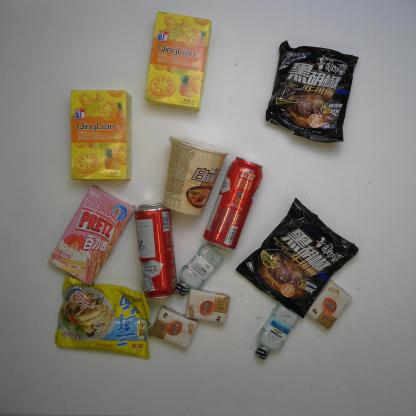Alcohol: (198, 153, 266, 255), (131, 201, 185, 301)
Dessert: (49, 182, 138, 289), (137, 7, 212, 114), (67, 84, 136, 181)
Instant Noodles: (236, 192, 360, 321), (266, 38, 358, 144), (53, 277, 156, 362), (157, 132, 228, 218)
Personal Hygiene: (252, 298, 303, 366), (175, 240, 225, 298)
Tissue: (300, 277, 355, 333), (150, 305, 201, 352), (182, 289, 233, 327)
